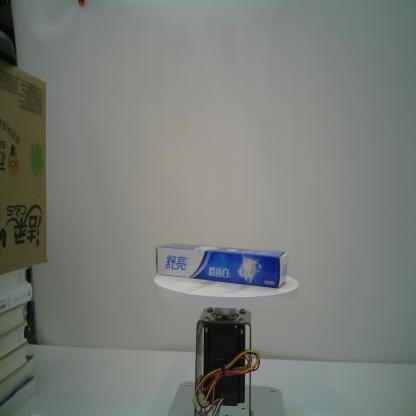Personal Hygiene: (154, 237, 288, 290)
